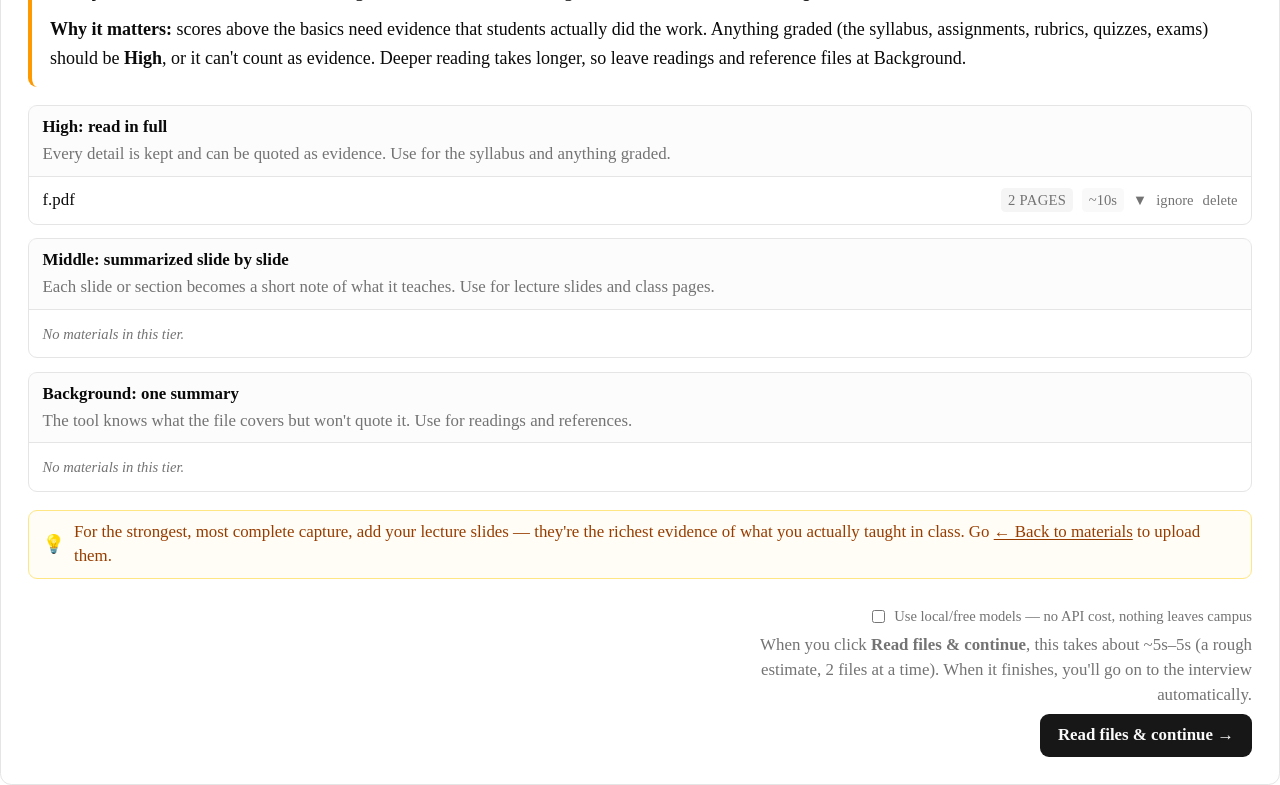
Test case: TriageStep completion gate › on any OTHER 429 (not reason:'cooldown', e.g. the IP rate limit), shows a generic message and re-enables the button without polling
(page scrolled)
Click the button "Read files & continue →": [1146, 736] box [1040,714,1252,757]
(page scrolled)
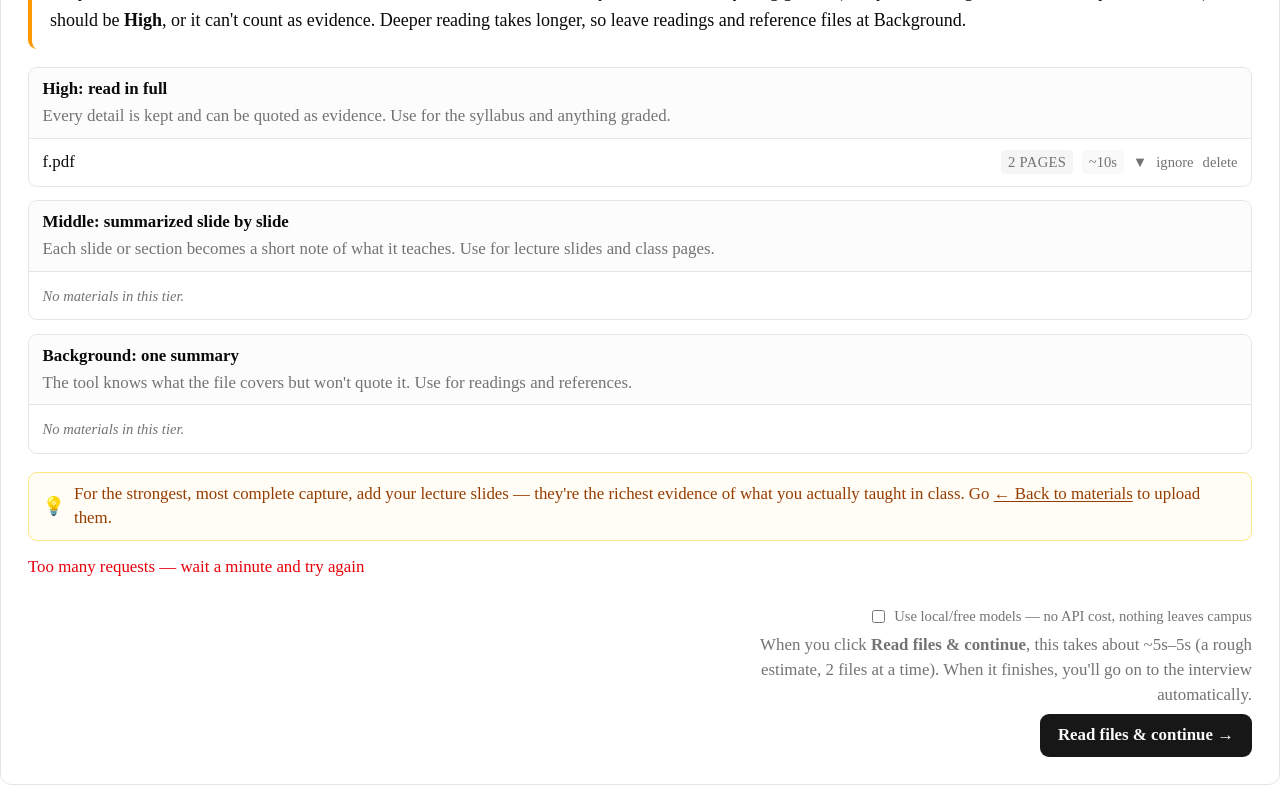
Expected: the text "Too many requests — wait a minute and try again" is shown, [28,557,364,576]
